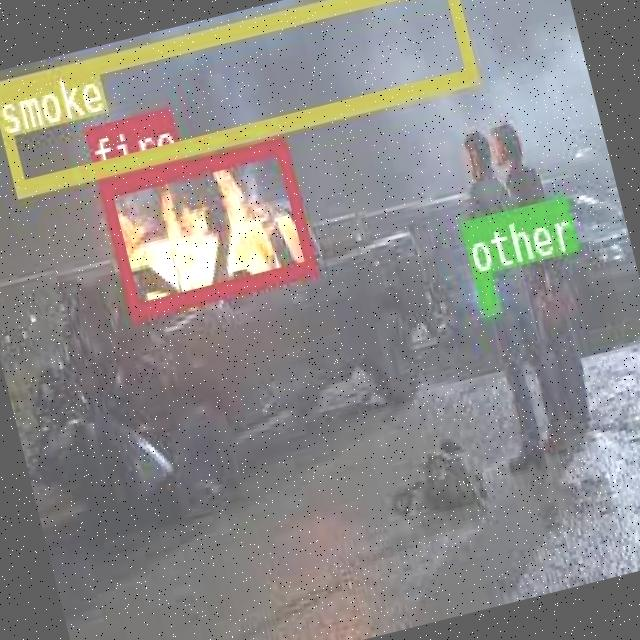fire: (96, 134, 315, 318)
smoke: (0, 0, 476, 194)
